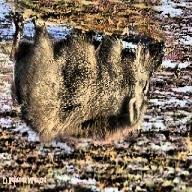boar: (9, 13, 167, 146)
